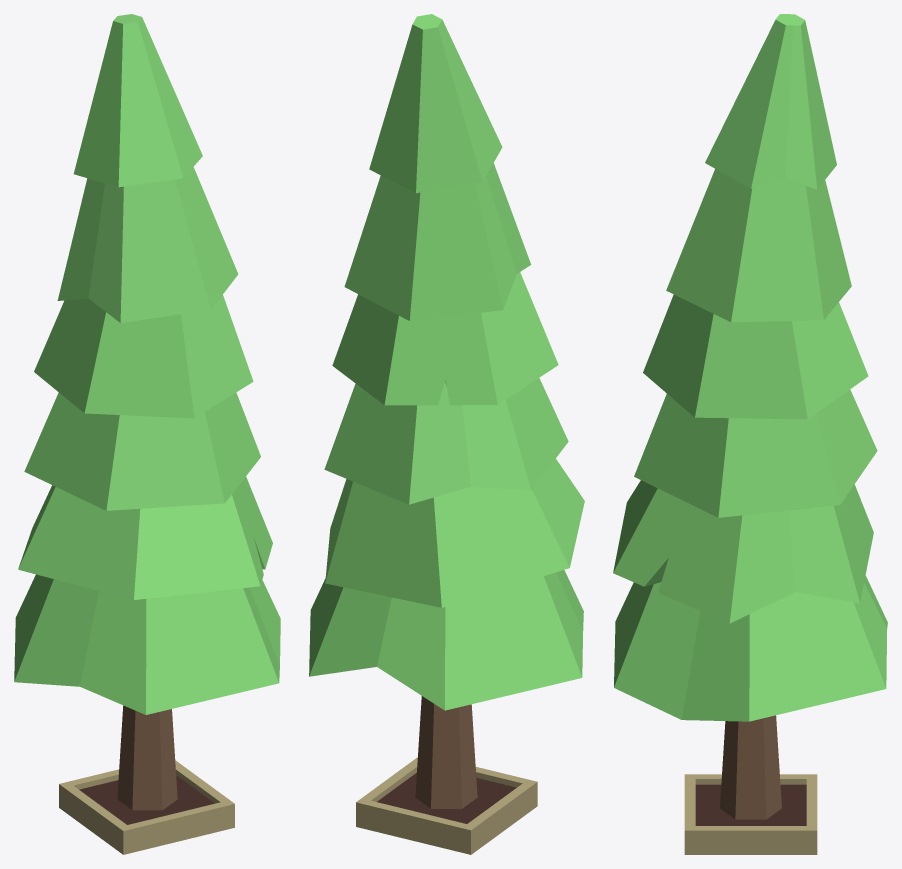
Rendered from Street Tree 6.fbx.
3 renders of one model, left to right at view 1: azimuth 30°, elevation 25°; view 2: azimuth 150°, elevation 25°; view 3: azimuth 270°, elevation 25°, orthographic. The views are drawn at different scales.
Parts seen in each view (by area): view 1: Street Tree 6; view 2: Street Tree 6; view 3: Street Tree 6.
Boxes of the visible parts, bbox=[...] form: Street Tree 6: bbox=[14, 14, 280, 854]; Street Tree 6: bbox=[309, 14, 584, 854]; Street Tree 6: bbox=[613, 14, 887, 854].
Size of the model in its own units: 237 by 673 by 207.
1 material, 1 textured.
